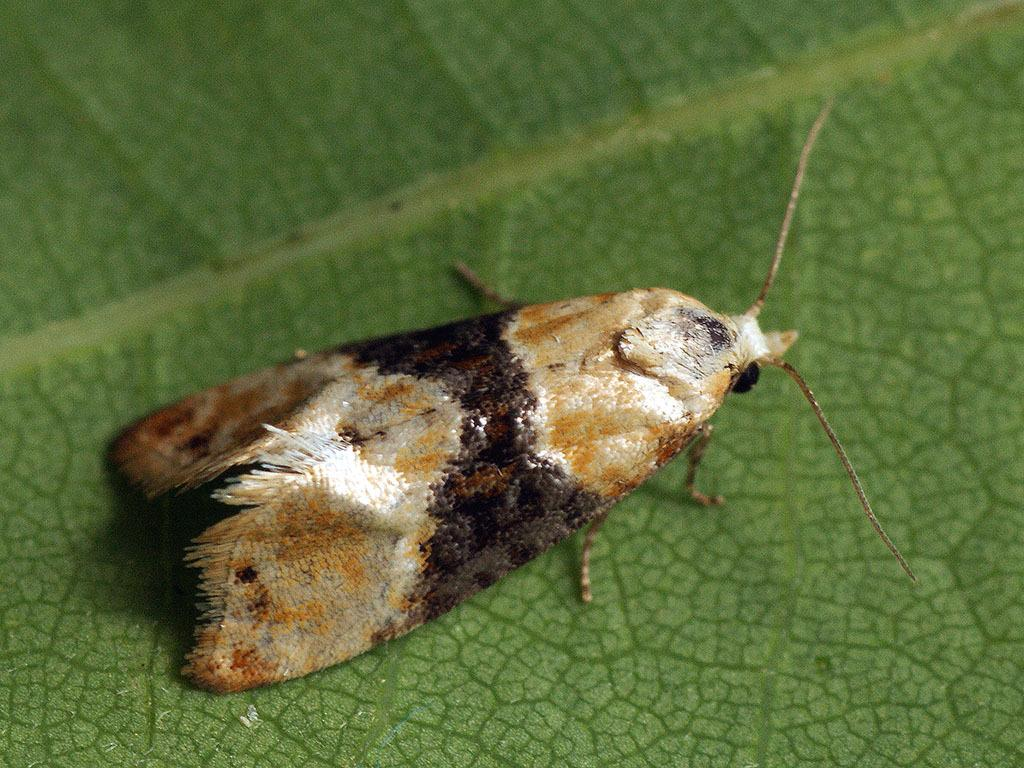Eupoecilia Ambiguella: (101, 94, 919, 697)
